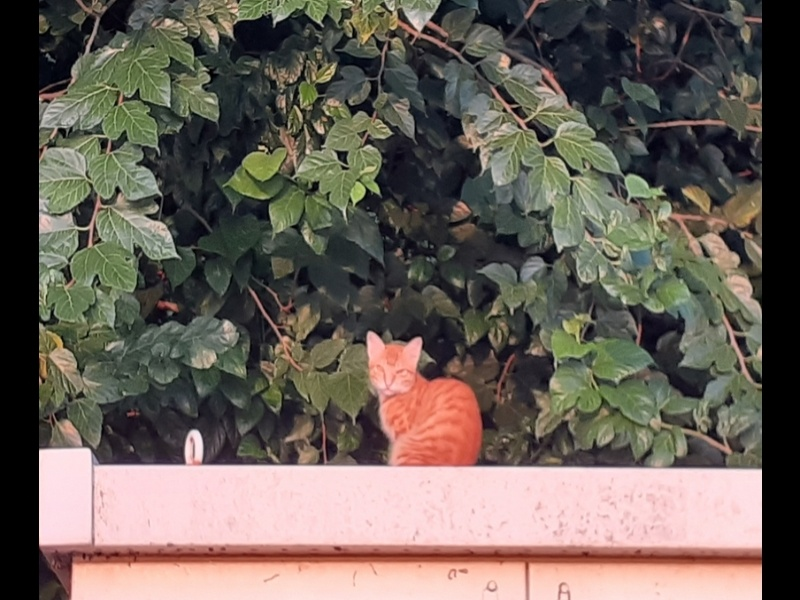cat: (360, 330, 487, 468)
